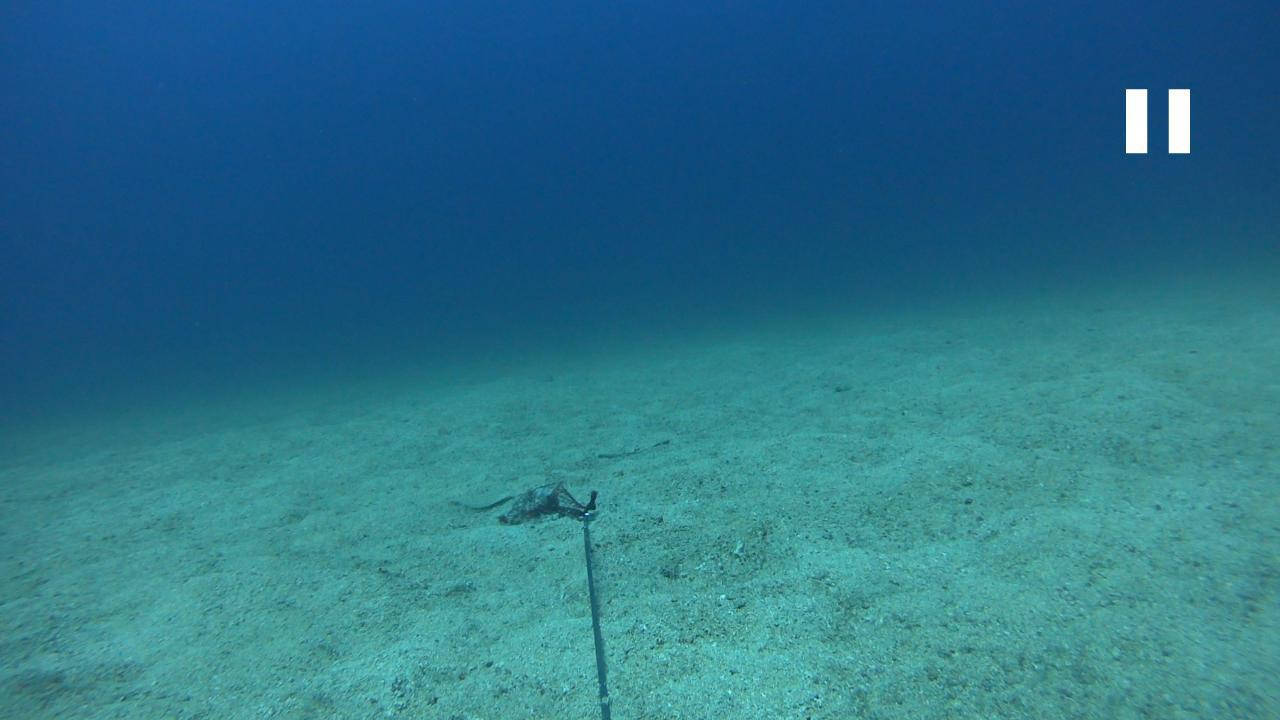bothus: (439, 485, 513, 510)
